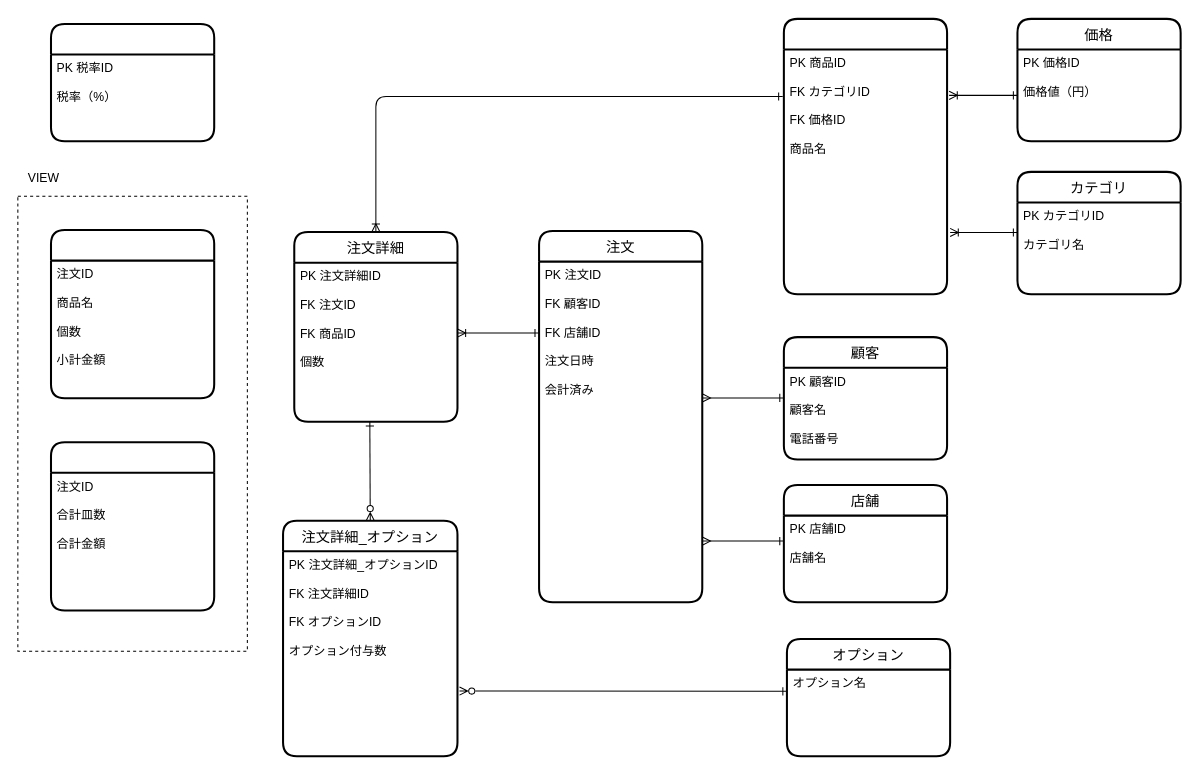
Some shapes in this 1200 by 774 pixel diagram are drawn without their labels. The shapes that lost their labels are listed below. From the top down, each one's box as (x1, y1, x2, y2) in pixels, then its label:
(49, 22, 215, 142): 税率
(782, 17, 948, 295): 商品
(49, 228, 215, 399): VIEW 注文小計
(49, 441, 215, 611): VIEW 注文合計
